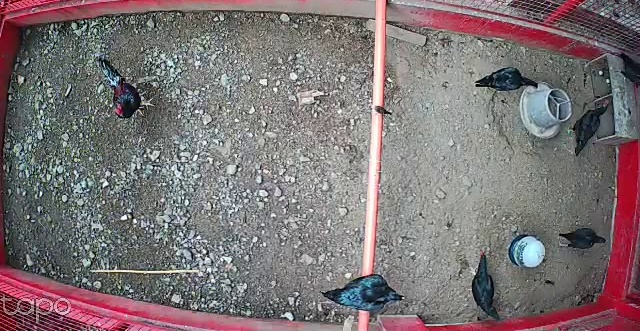Chicken: (318, 272, 409, 314), (564, 98, 612, 160), (464, 248, 504, 321), (467, 59, 541, 97), (555, 225, 610, 253)
Drinker: (520, 80, 571, 143)
Rooster: (93, 56, 159, 124)
